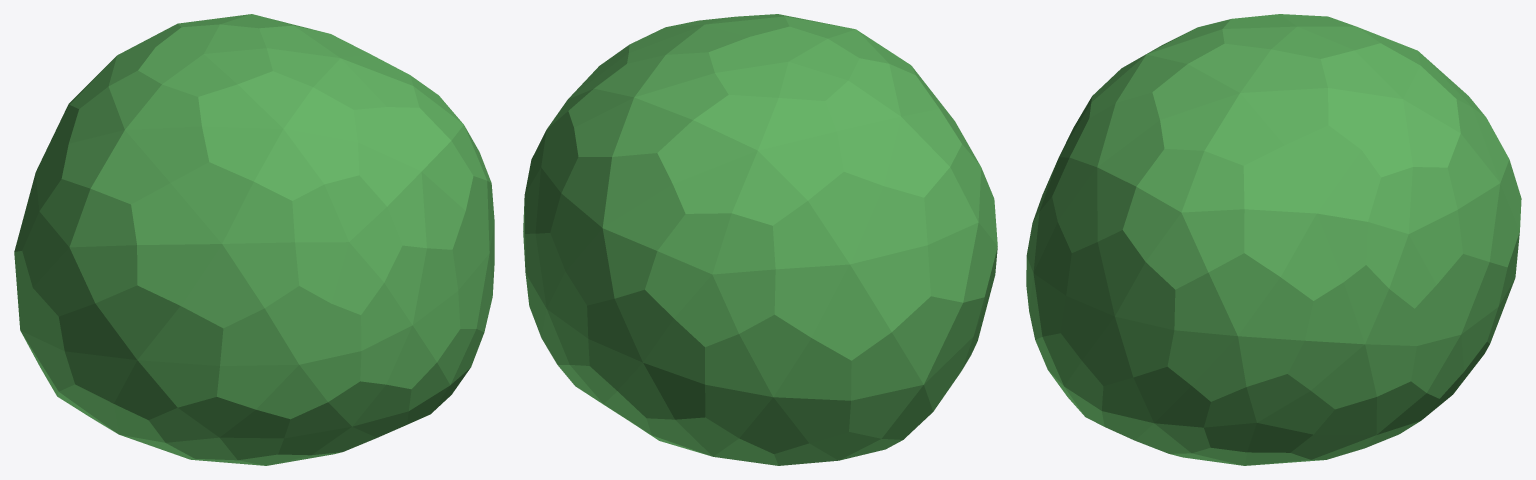
Rendered from arbustoPeq.glb.
3 views of the same model, side by side, from view 1: azimuth 30°, elevation 25°; view 2: azimuth 150°, elevation 25°; view 3: azimuth 270°, elevation 25° (orthographic). The views are drawn at different scales.
Parts seen in each view (by area): view 1: Icosphere.004; view 2: Icosphere.004; view 3: Icosphere.004.
Boxes of the visible parts, x1,y1,x2,y2 form: Icosphere.004: (14,14,494,465); Icosphere.004: (523,14,997,465); Icosphere.004: (1026,14,1521,465).
Size of the model in its own units: 0.3434 by 0.2892 by 0.3416.
